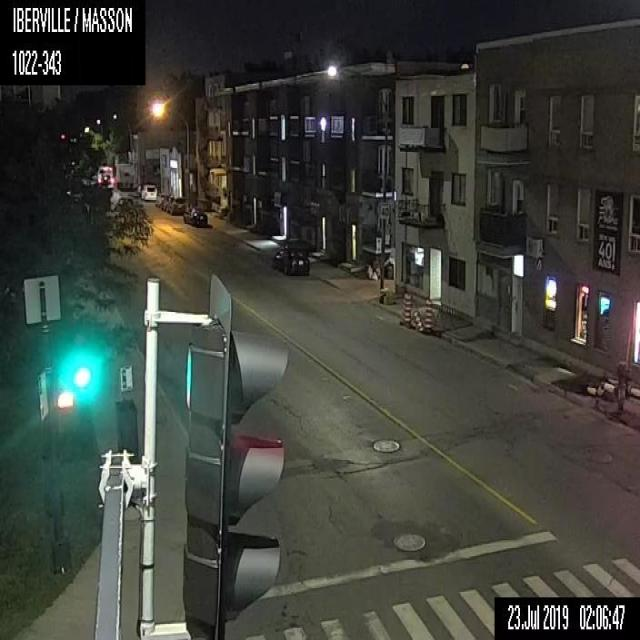construction: (549, 360, 625, 412), (400, 289, 413, 328), (422, 297, 434, 336), (411, 306, 424, 334)
vehicle: (271, 243, 309, 277), (182, 204, 207, 227), (115, 161, 134, 190), (96, 166, 114, 189), (166, 196, 186, 215), (140, 183, 158, 200), (155, 192, 167, 205)
